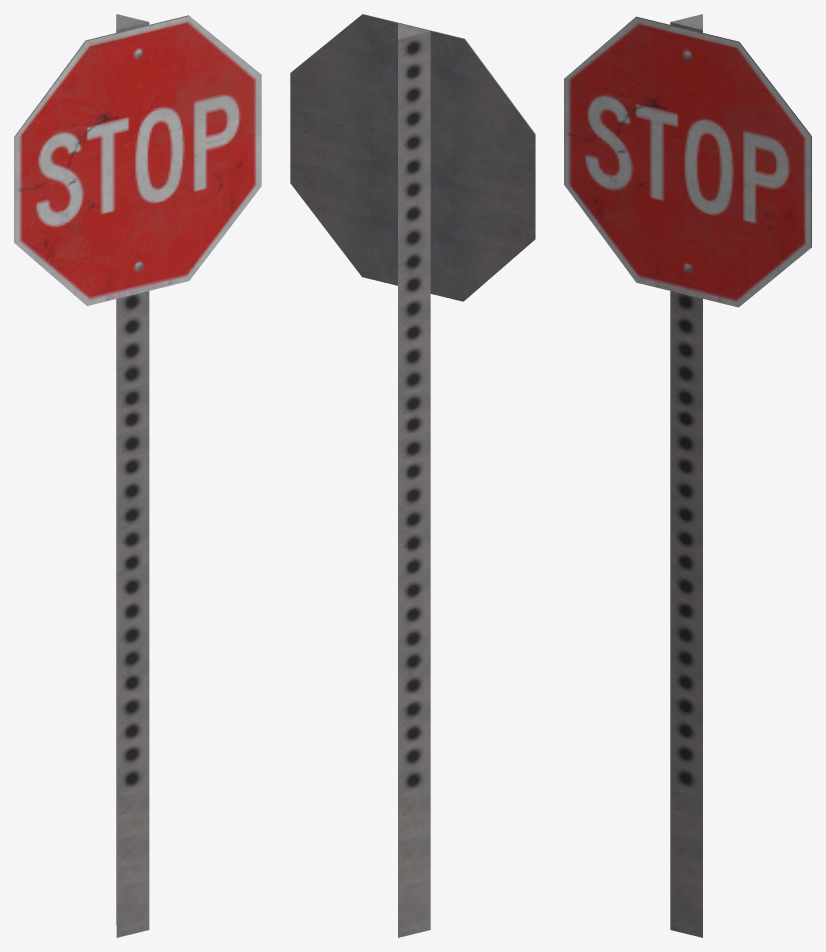
File: sign stop.FBX
3 views of the same model, side by side, from view 1: azimuth 30°, elevation 25°; view 2: azimuth 150°, elevation 25°; view 3: azimuth 330°, elevation 25° (orthographic).
Parts seen in each view (by area): view 1: Sign_Stop__15_; view 2: Sign_Stop__15_; view 3: Sign_Stop__15_.
Boxes of the visible parts, box(x1,y1,x2,y2) form: Sign_Stop__15_: box(14, 14, 261, 937); Sign_Stop__15_: box(290, 14, 535, 937); Sign_Stop__15_: box(564, 14, 811, 937).
Size of the model in its own units: 7.5 by 26.33 by 0.9867.
1 material, 1 textured.
